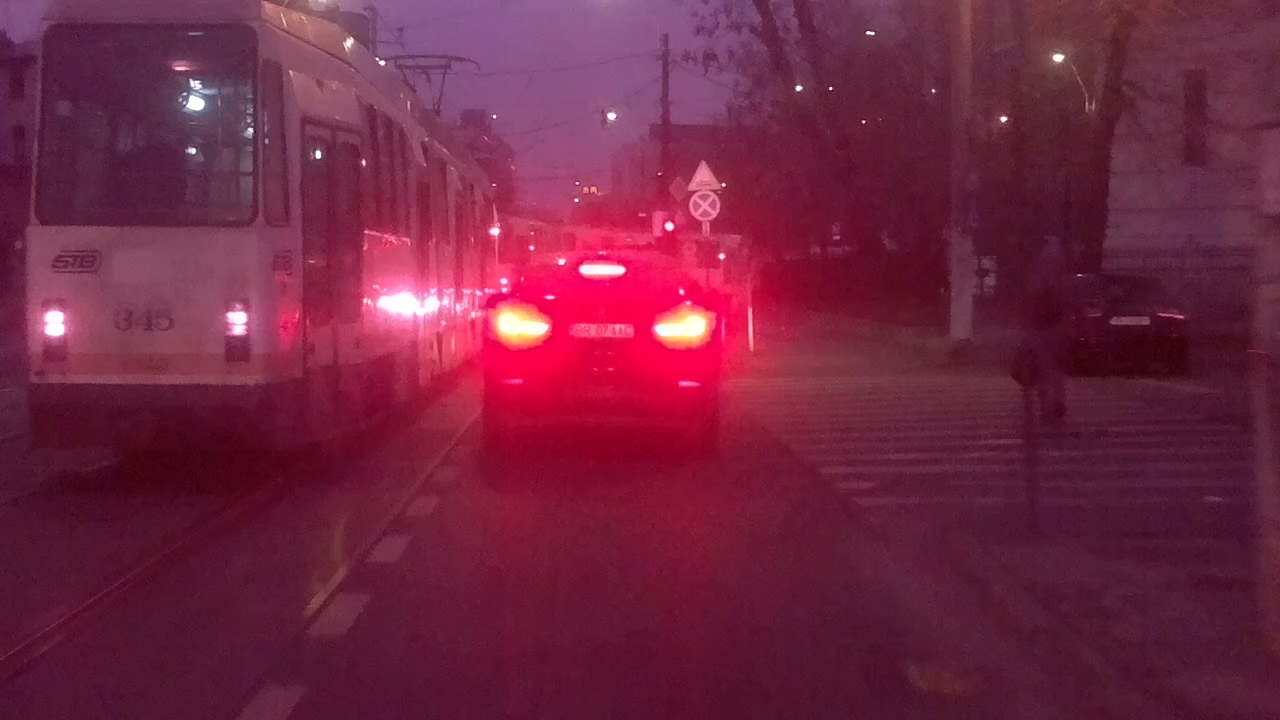license-plate: (565, 321, 636, 340)
